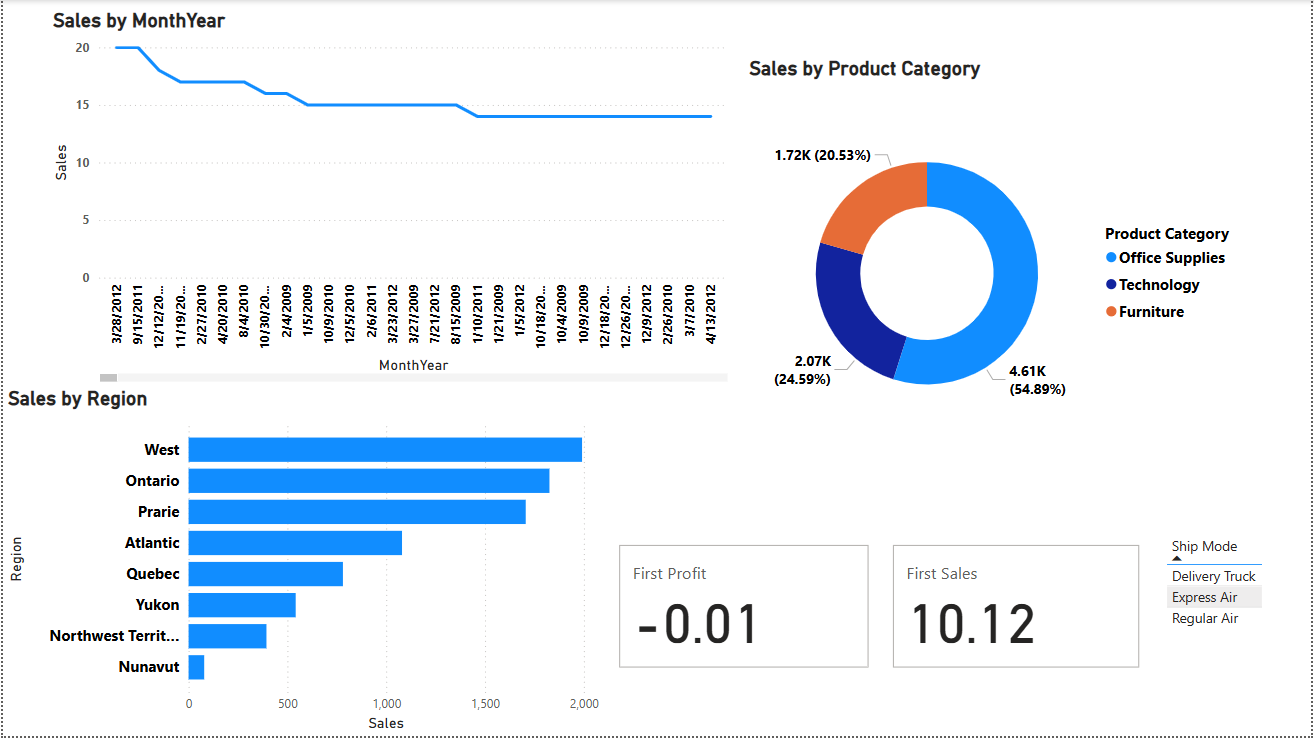

What the dashboard file says about the page in this screenshot:
{"tool":"powerbi","page":{"name":"Page 1","canvas":[1280,720],"ordinal":0},"visuals":[{"type":"lineChart","fields":{"Category":["Superstore-Sales.MonthYear"],"Y":["CountNonNull(Superstore-Sales.Sales)"]},"box":[44.3,8.6,670,370],"z":0},{"type":"clusteredBarChart","fields":{"Category":["Superstore-Sales.Region"],"Y":["CountNonNull(Superstore-Sales.Sales)"]},"box":[0,378.6,588.6,341.4],"z":1},{"type":"donutChart","fields":{"Category":["Superstore-Sales.Product Category"],"Y":["CountNonNull(Superstore-Sales.Sales)"]},"box":[725.7,55.7,502.9,398.6],"z":2},{"type":"cardVisual","fields":{"Data":["Min(Superstore-Sales.Sales)"]},"box":[865.7,528.6,251.4,130],"z":3},{"type":"cardVisual","fields":{"Data":["Min(Superstore-Sales.Profit)"]},"box":[598.6,528.6,254.3,130],"z":4},{"type":"tableEx","fields":{"Values":["Superstore-Sales.Ship Mode"]},"box":[1132.9,518.6,127.1,148.6],"z":5}]}

Visuals, with their boxes in screenshot pixels (x1, y1, x2, y2), scaled from the page's 1280x720 canvas onto the 1314x738 screenshot:
lineChart - Superstore-Sales.MonthYear x CountNonNull(Superstore-Sales.Sales): (left=45, top=9, right=733, bottom=388)
clusteredBarChart - Superstore-Sales.Region x CountNonNull(Superstore-Sales.Sales): (left=0, top=388, right=604, bottom=737)
donutChart - Superstore-Sales.Product Category x CountNonNull(Superstore-Sales.Sales): (left=745, top=57, right=1261, bottom=466)
cardVisual - Min(Superstore-Sales.Sales): (left=889, top=542, right=1147, bottom=675)
cardVisual - Min(Superstore-Sales.Profit): (left=615, top=542, right=876, bottom=675)
tableEx - Superstore-Sales.Ship Mode: (left=1163, top=532, right=1293, bottom=684)
